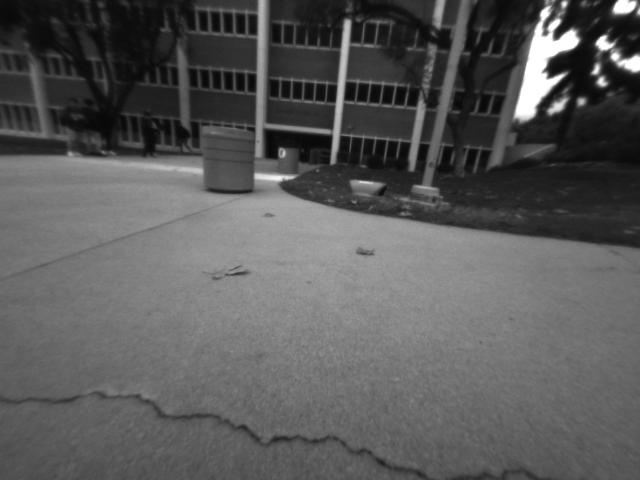trashcan: (194, 115, 261, 201), (271, 136, 305, 179)
